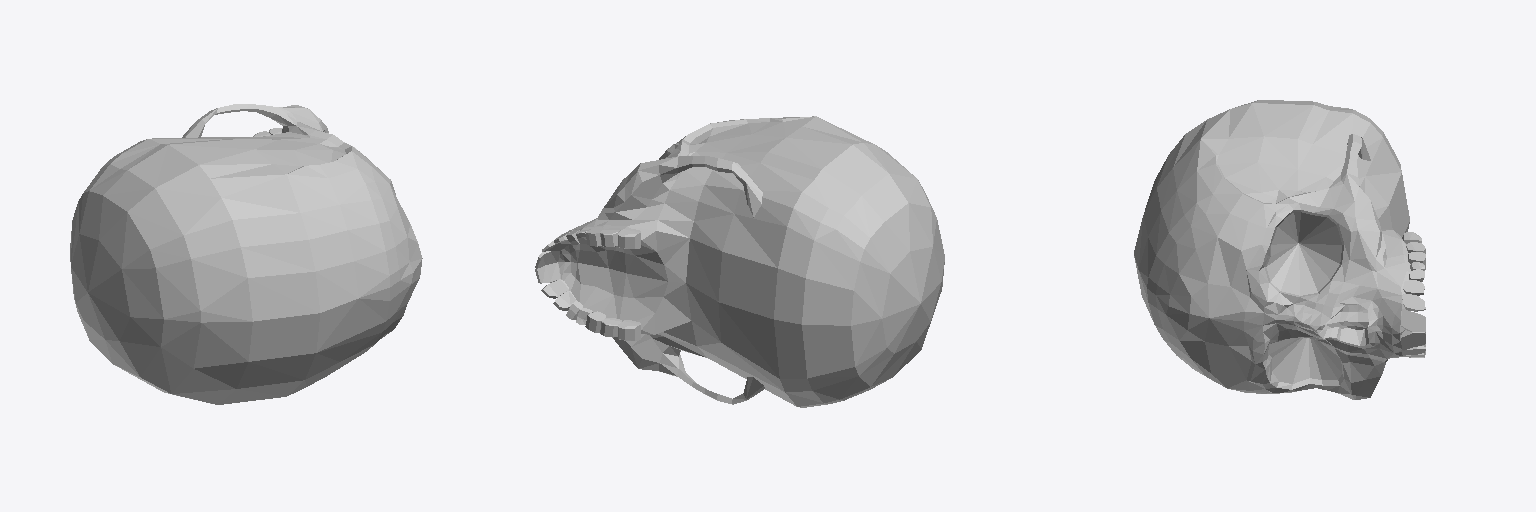
File: Fp Oddball.obj
3 renders of one model, left to right at view 1: azimuth 30°, elevation 25°; view 2: azimuth 150°, elevation 25°; view 3: azimuth 270°, elevation 25°, orthographic.
Visible parts, largest first — view 1: __unnamed; view 2: __unnamed; view 3: __unnamed.
Boxes of the visible parts, <box> form: __unnamed: <box>70,104,422,404</box>; __unnamed: <box>535,116,944,407</box>; __unnamed: <box>1134,100,1425,399</box>.
Bounding box in the file's own units: 8.19 × 5.92 × 6.47.